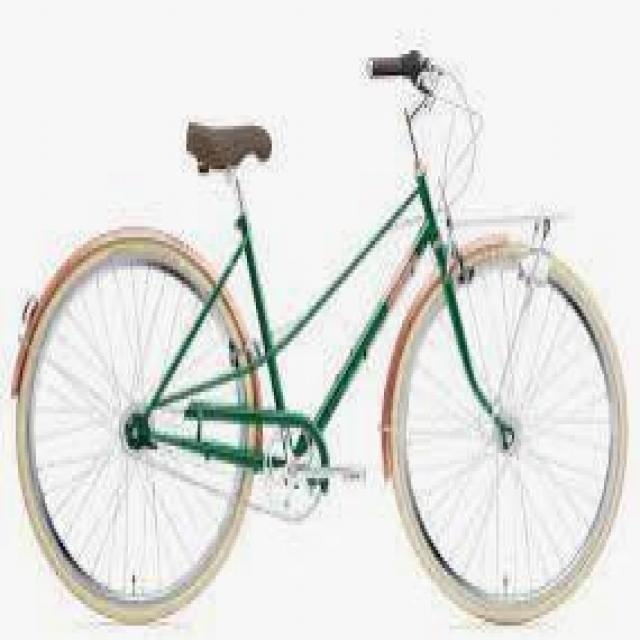bicycle: (6, 69, 617, 591)
